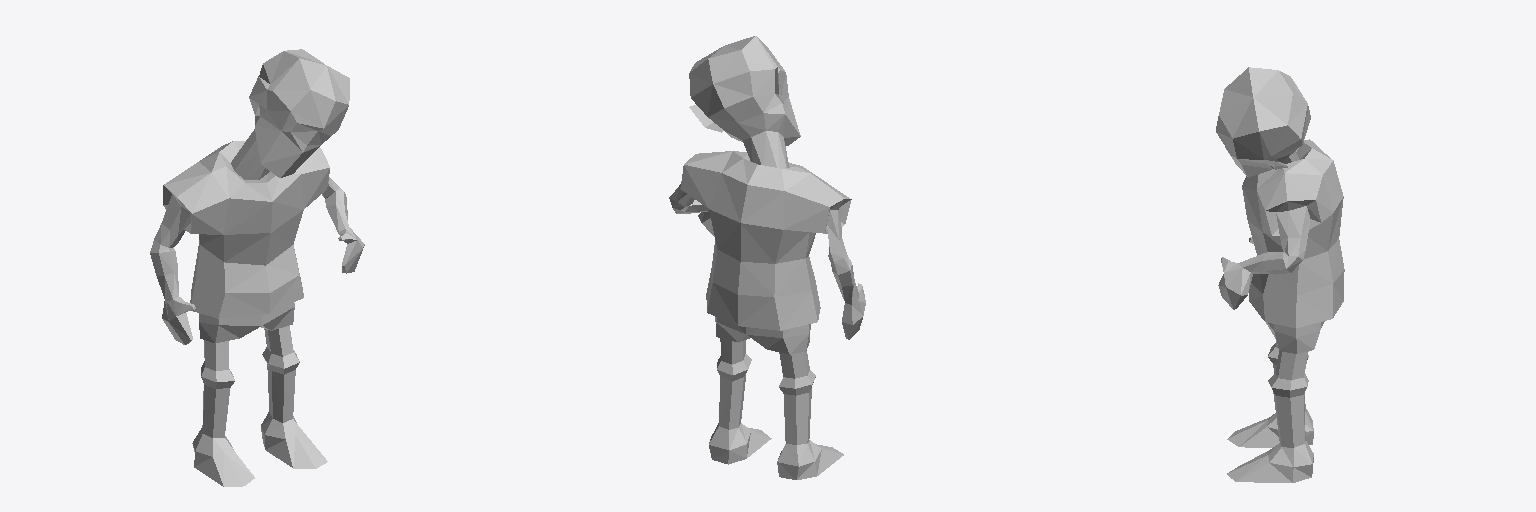
File: Zombie_low.obj
3 views of the same model, side by side, from view 1: azimuth 30°, elevation 25°; view 2: azimuth 150°, elevation 25°; view 3: azimuth 270°, elevation 25° (orthographic).
Parts seen in each view (by area): view 1: Cube_Cube.001; view 2: Cube_Cube.001; view 3: Cube_Cube.001.
Part boxes in pixels (bbox=[...]): Cube_Cube.001: bbox=[150, 49, 364, 486]; Cube_Cube.001: bbox=[669, 36, 865, 479]; Cube_Cube.001: bbox=[1216, 67, 1344, 482].
Bounding box in the file's own units: 2.98 × 6.12 × 1.77.